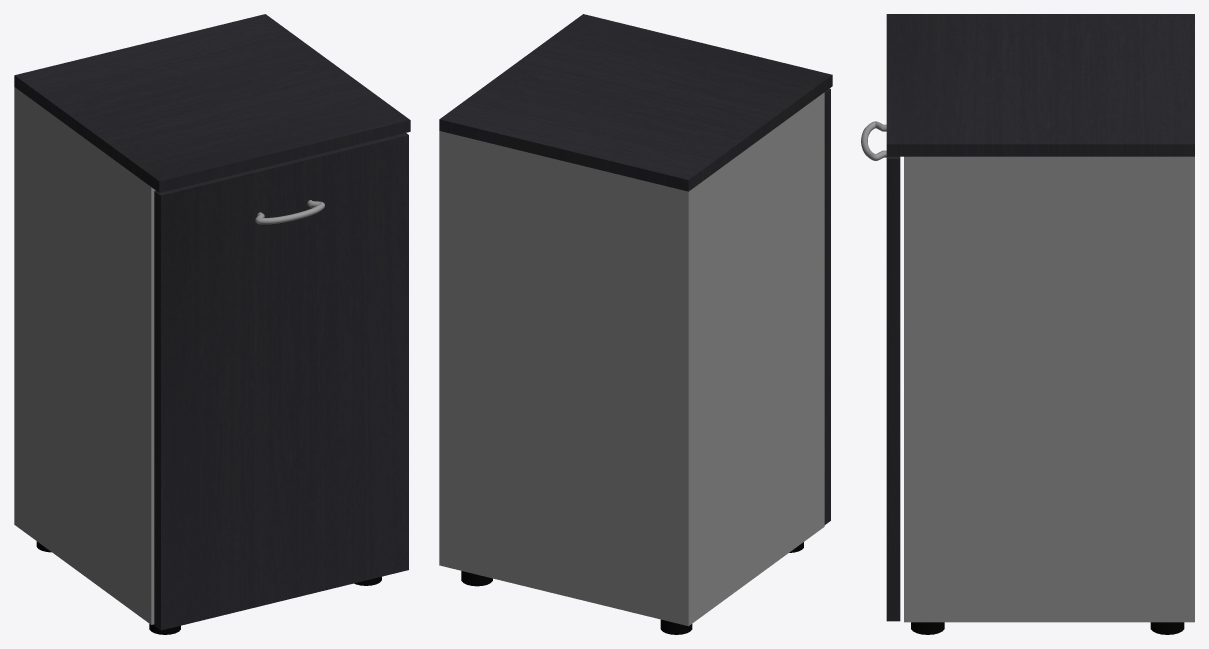
The model's file is mobile4580W.obj.
The picture shows the model from 3 angles, left to right: view 1: azimuth 30°, elevation 25°; view 2: azimuth 150°, elevation 25°; view 3: azimuth 270°, elevation 25°; orthographic projection. The views are drawn at different scales.
Visible parts, largest first — view 1: Box59_4, Box61_8, Box60_7, Line43_2; view 2: Box61_8, Box60_7, Box59_4; view 3: Box61_8, Box60_7, Box59_4, Line43_2.
Part boxes in pixels (x1,y1,x2,y2): Box59_4: [154, 133, 408, 630]; Box61_8: [14, 87, 155, 624]; Box60_7: [14, 14, 410, 192]; Line43_2: [255, 200, 324, 224]; Box61_8: [439, 92, 824, 626]; Box60_7: [439, 14, 832, 191]; Box59_4: [824, 88, 830, 524]; Box61_8: [904, 156, 1194, 622]; Box60_7: [886, 14, 1194, 156]; Box59_4: [886, 156, 900, 621]; Line43_2: [861, 121, 886, 160].
Bounding box in the file's own units: 45 × 80 × 48.75.
